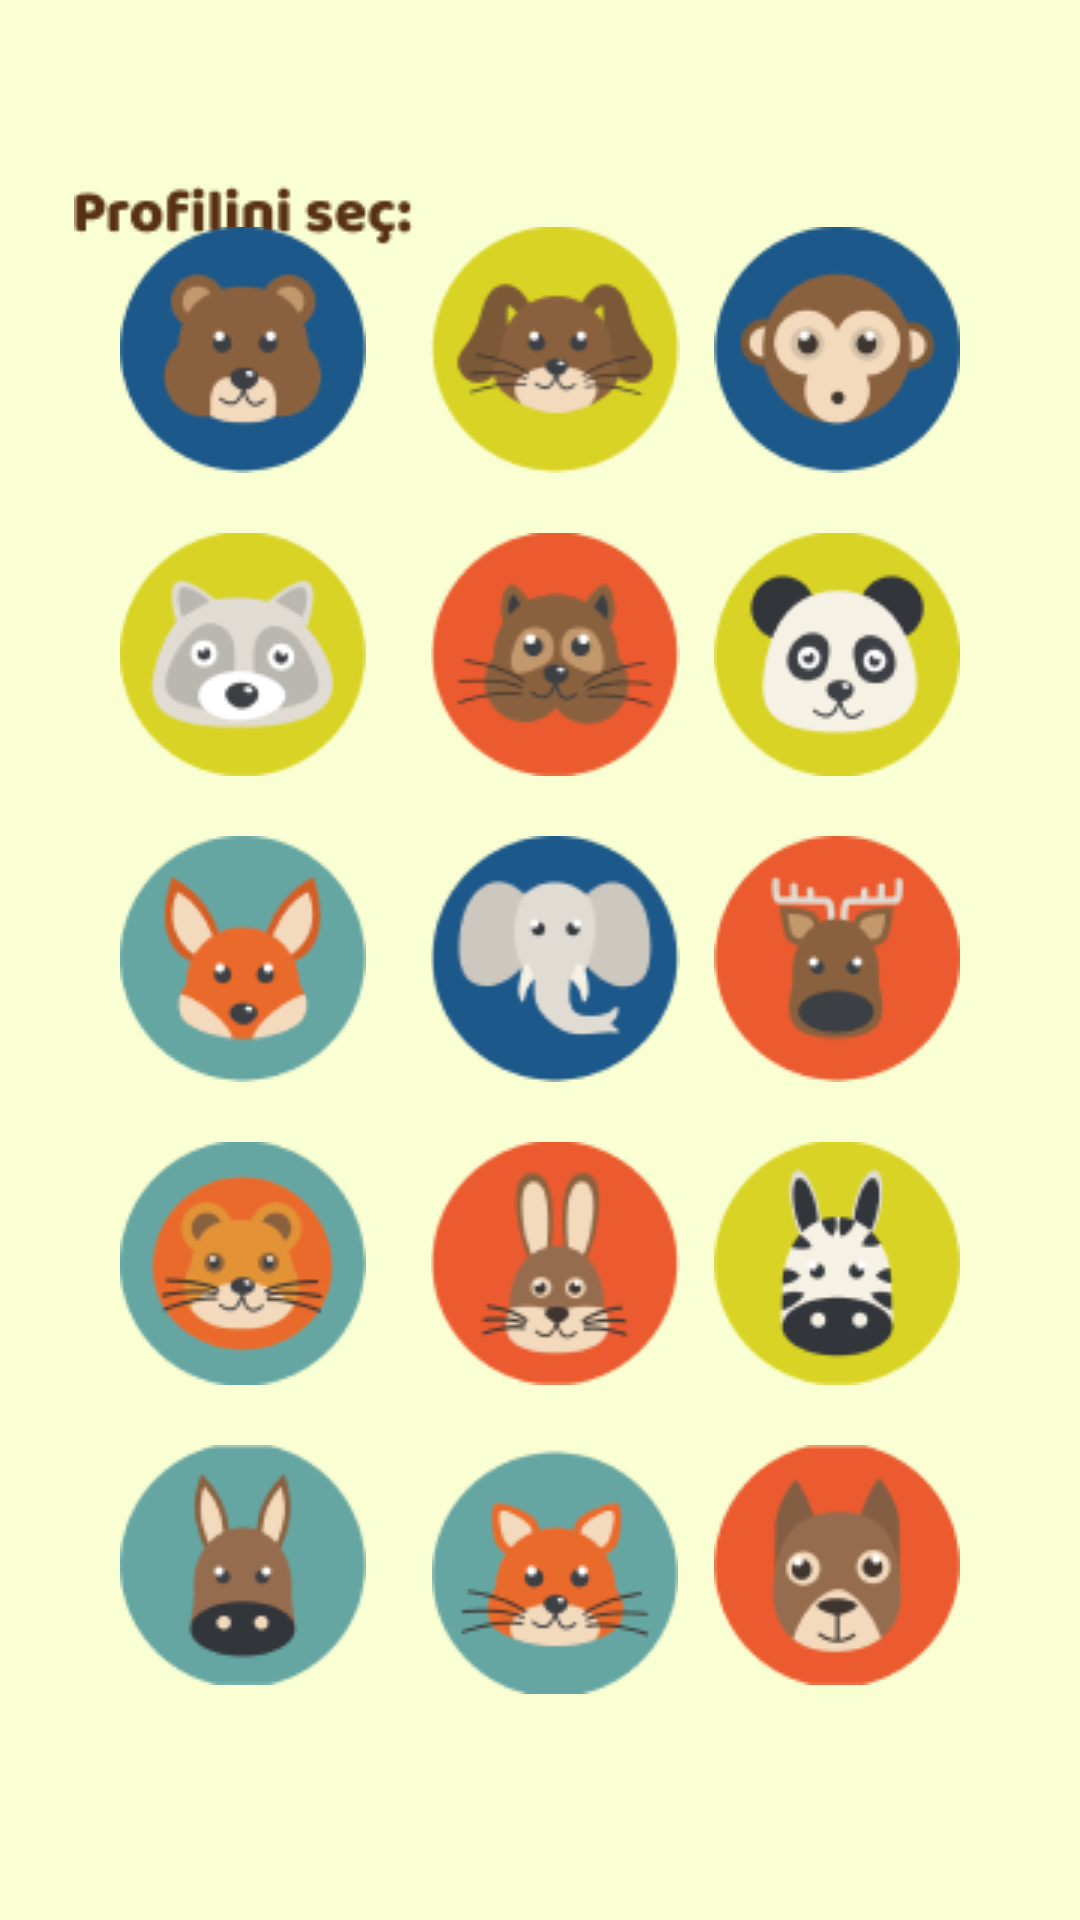

Icon click points for this 1080px x 1920px phone screenshot, format (x,y):
ayi: (243,350)
dovsan: (555,1263)
fil: (555,959)
maral: (837,959)
meymun: (837,350)
panda: (837,654)
pitbull: (837,1565)
tulku: (243,959)
zebra: (837,1263)
